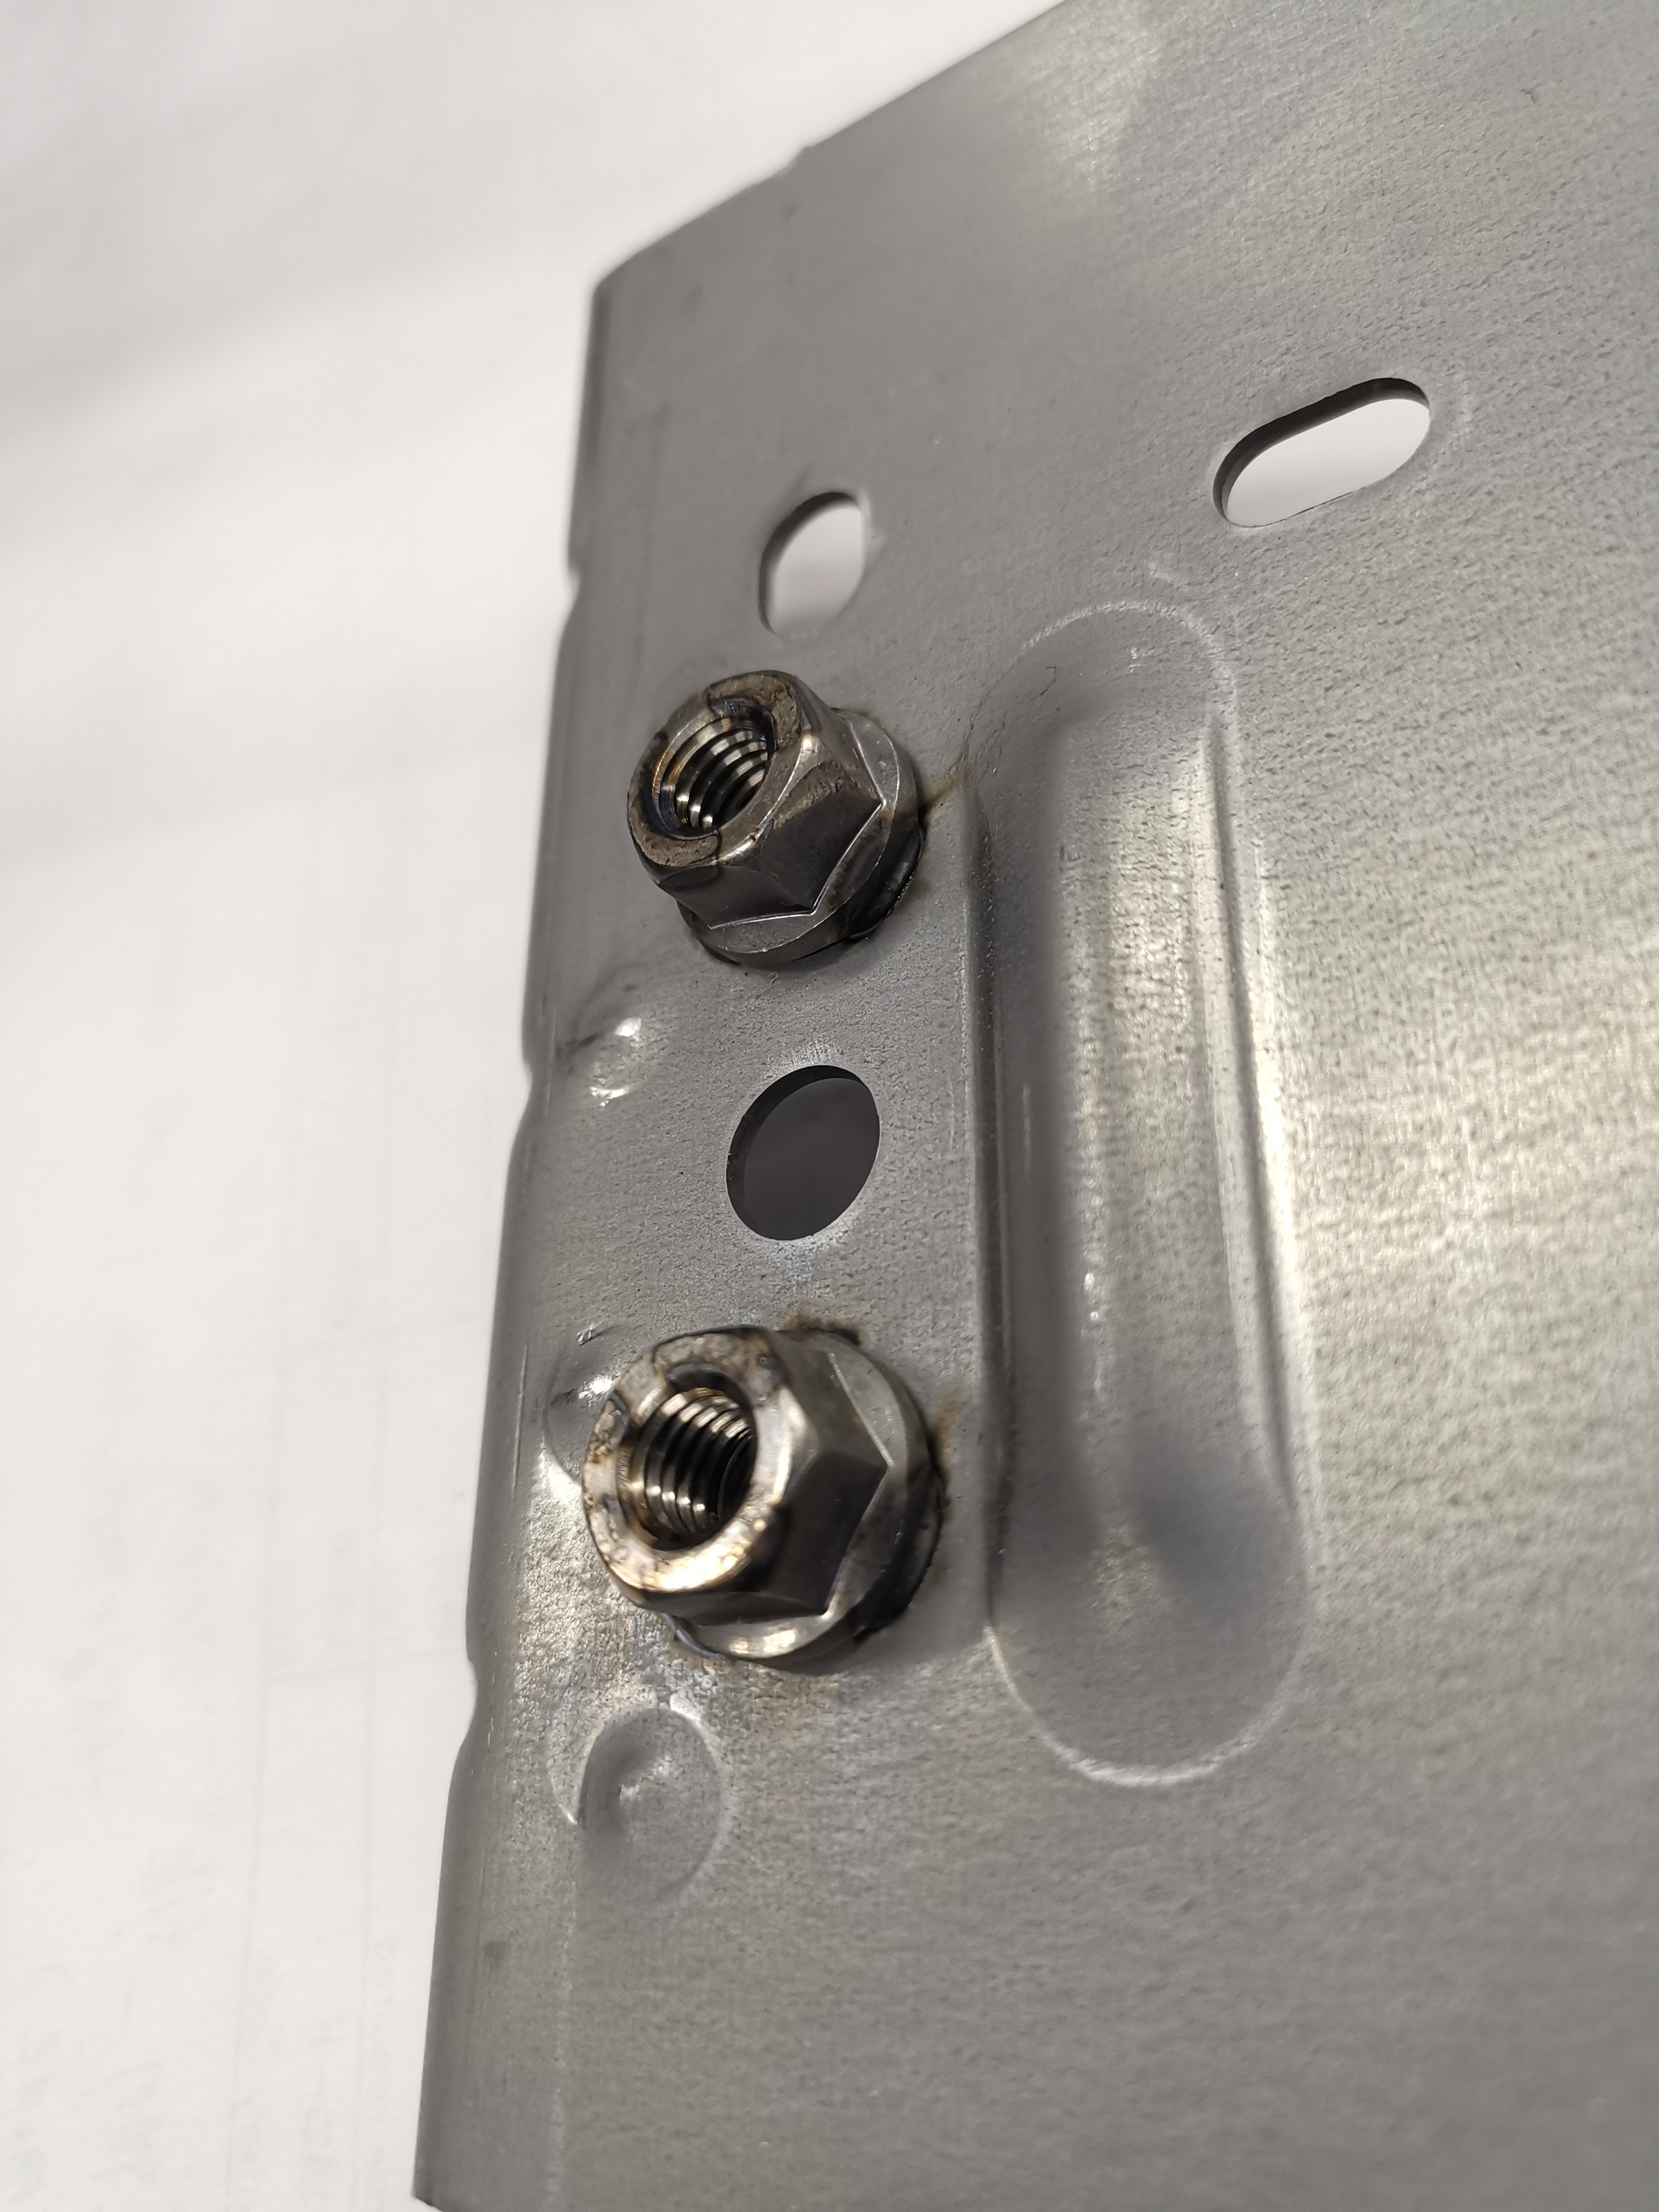dog: (572, 1310, 953, 1683), (617, 662, 938, 975)
